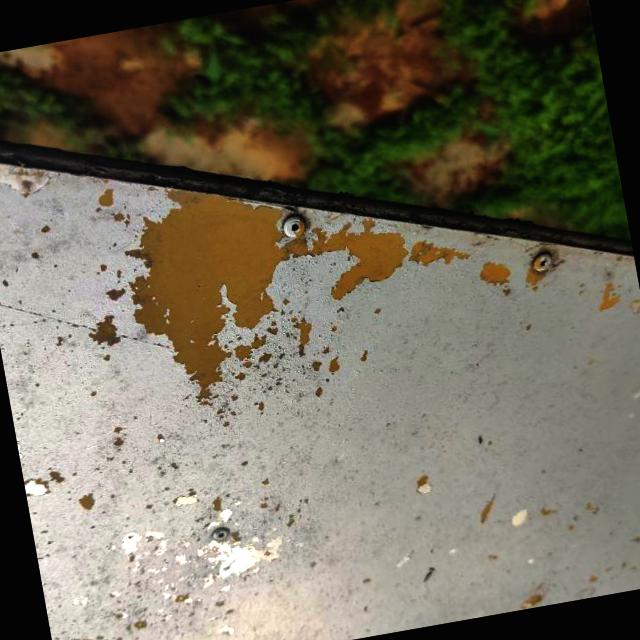paint-off: (52, 108, 530, 450)
